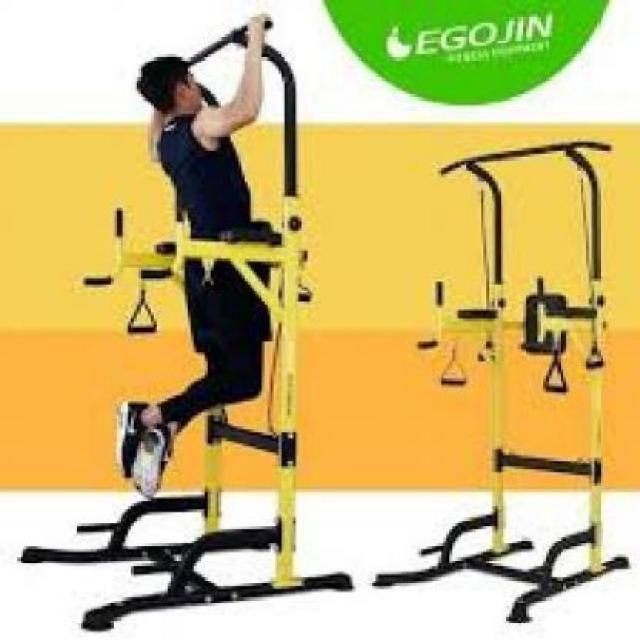chinning dipping: (14, 12, 354, 625), (375, 138, 631, 624)
